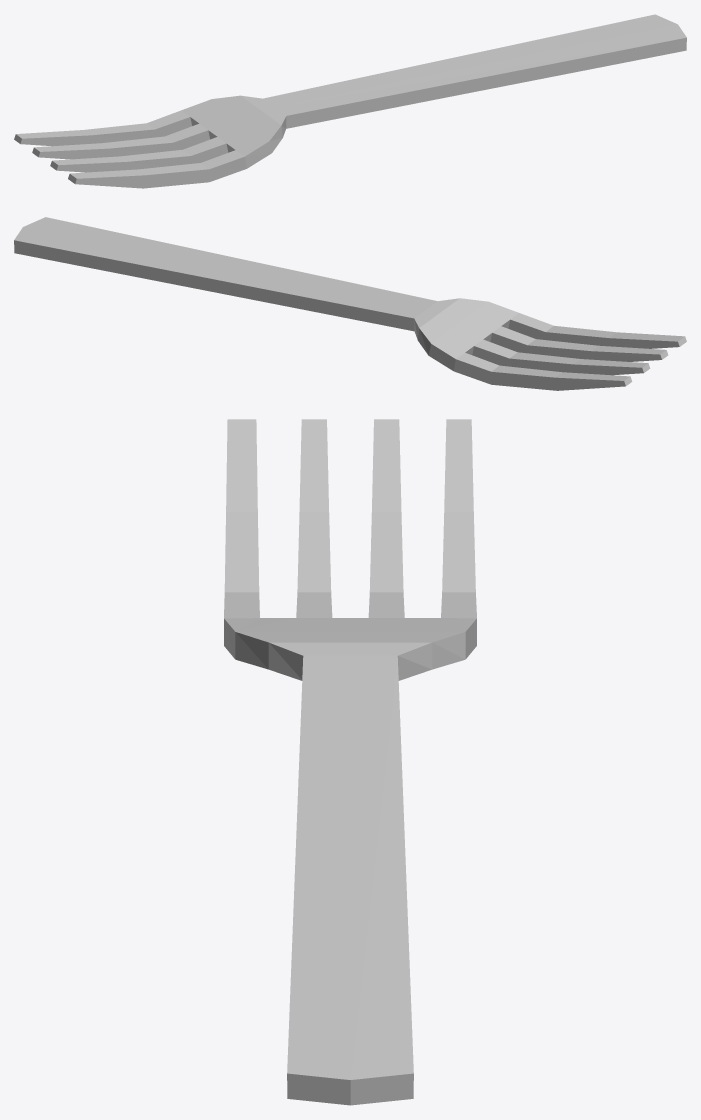
The model's file is 495 Forks.obj.
3 views of the same model, one above another, from view 1: azimuth 30°, elevation 25°; view 2: azimuth 150°, elevation 25°; view 3: azimuth 270°, elevation 25° (orthographic). The views are drawn at different scales.
Parts seen in each view (by area): view 1: Fork; view 2: Fork; view 3: Fork.
Boxes of the visible parts, left/top/right/bottom form: Fork: left=14, top=14, right=686, bottom=188; Fork: left=14, top=217, right=686, bottom=390; Fork: left=224, top=419, right=476, bottom=1105.
Size of the model in its own units: 58.74 by 3.11 by 10.17.
1 material, 1 textured.
